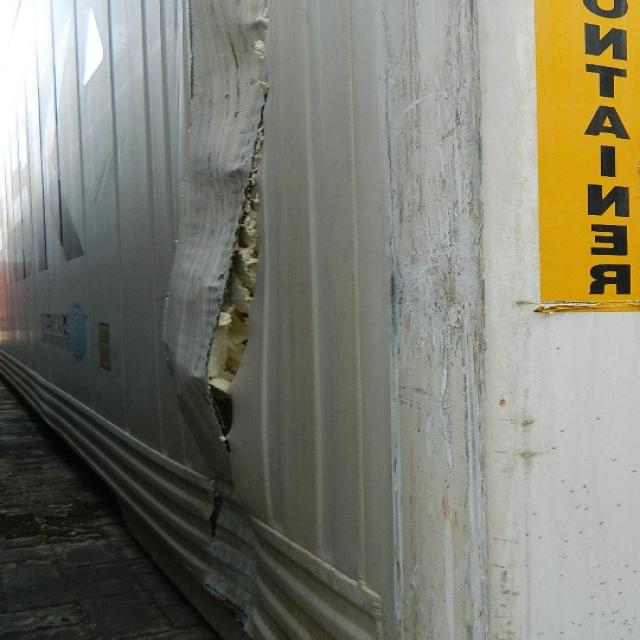hole: (201, 78, 276, 452), (205, 481, 226, 555)
